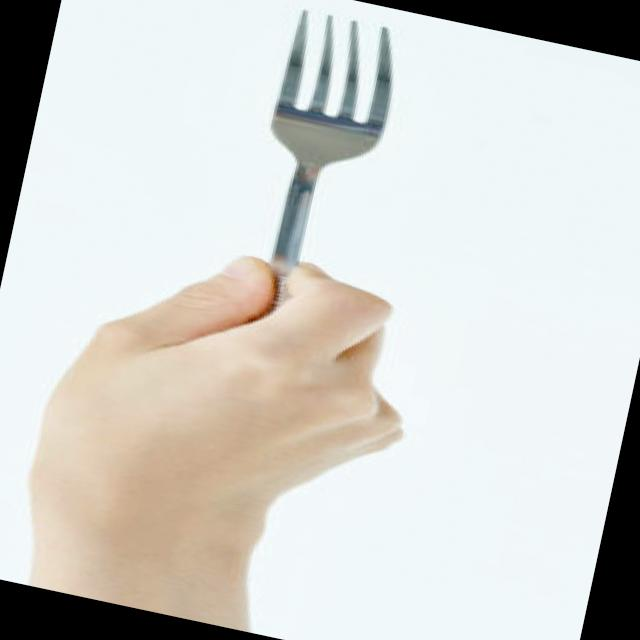fork: (214, 0, 415, 353)
